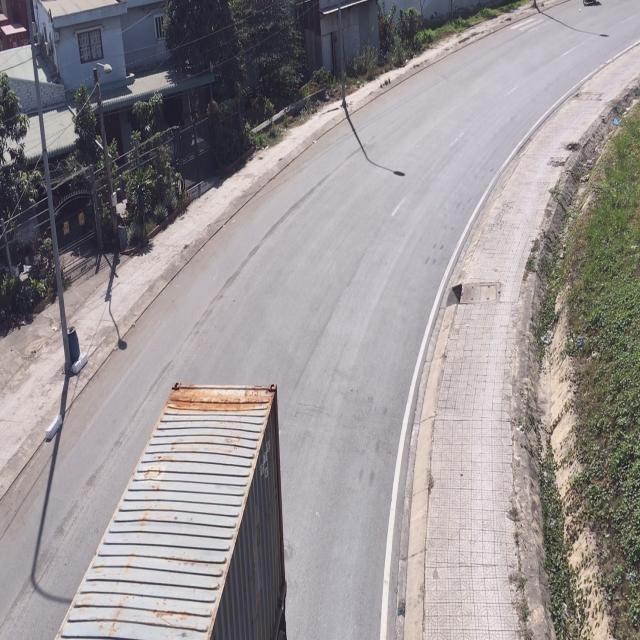truck: (62, 378, 284, 636)
